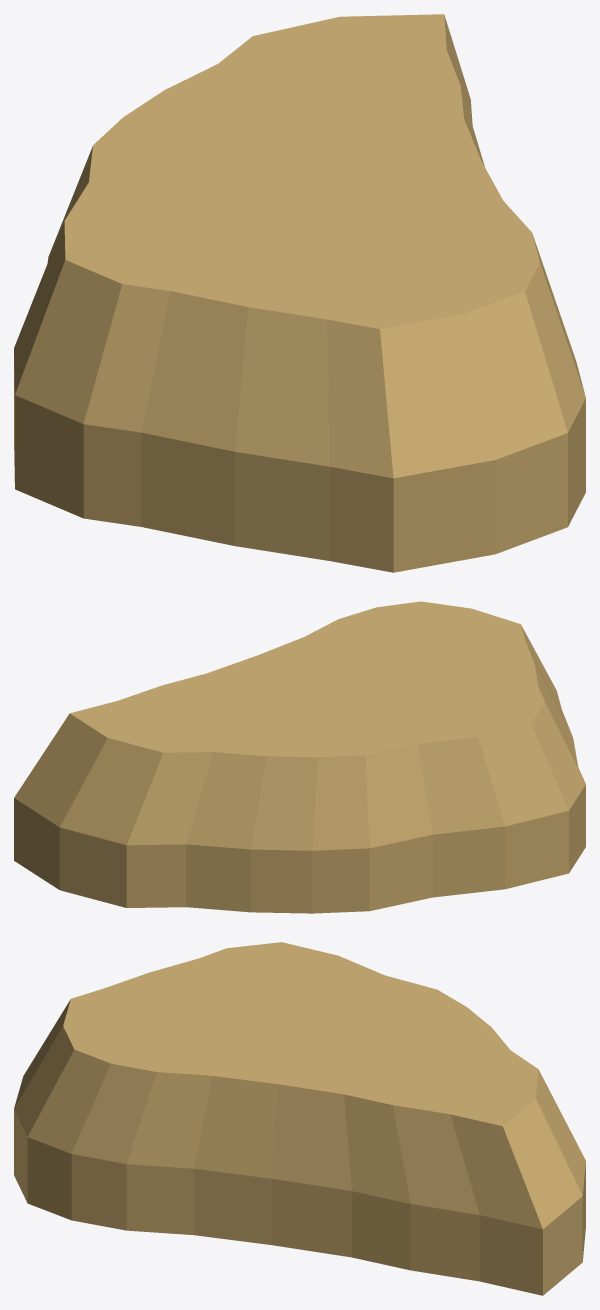
Rendered from RedObstacle3.fbx.
3 renders of one model, top to bottom at view 1: azimuth 30°, elevation 25°; view 2: azimuth 150°, elevation 25°; view 3: azimuth 270°, elevation 25°, orthographic. The views are drawn at different scales.
Visible parts, largest first — view 1: RedObstacle3; view 2: RedObstacle3; view 3: RedObstacle3.
Part boxes in pixels (x1,y1,x2,y2): RedObstacle3: (14, 14, 585, 572); RedObstacle3: (14, 601, 585, 913); RedObstacle3: (14, 942, 585, 1295).
Bounding box in the file's own units: 5.47 × 1.74 × 5.97.
